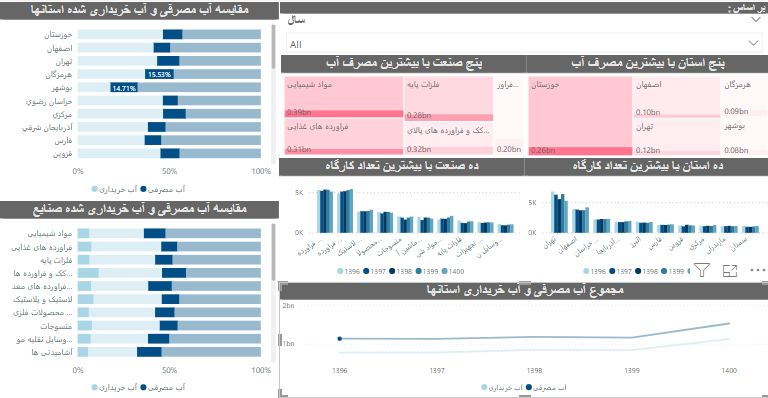

What the dashboard file says about the page in this screenshot:
{"tool":"powerbi","page":{"name":"مصرف آب کارگاه صنعتی ","canvas":[1280,720],"ordinal":1},"visuals":[{"type":"lineChart","title":"مجموع آب مصرفی و آب خریداری استانها","fields":{"Category":["آب استان.سال"],"Y":["Sum(آب استان.مقادیر)"],"Series":["آب استان.نوع آب"]},"box":[463,526.8,817,192.9],"z":0},{"type":"hundredPercentStackedBarChart","title":"مقایسه آب مصرفی و آب خریداری شده صنایع","fields":{"Category":["آب صنایع.صنایع"],"Series":["آب صنایع.نوع آب"],"Y":["Sum(آب صنایع.مقادیر)"]},"box":[0,392.6,463,328],"z":1000},{"type":"hundredPercentStackedBarChart","title":"مقایسه آب مصرفی و آب خریداری شده استانها","fields":{"Category":["آب استان.استان"],"Y":["Sum(آب استان.مقادیر)"],"Series":["آب استان.نوع آب"]},"box":[0,62,463,329],"z":2000},{"type":"treemap","title":"پنج استان با بیشترین مصرف آب","fields":{"Group":["آب استان.استان"],"Values":["Sum(آب استان.مقادیر)"]},"box":[871.6,149.4,408.4,171],"z":3000},{"type":"treemap","title":"پنج صنعت با بیشترین مصرف آب","fields":{"Values":["Sum(آب صنایع.مقادیر)"],"Group":["آب صنایع.صنایع"]},"box":[466,149.4,408.4,170],"z":4000},{"type":"clusteredColumnChart","title":"ده استان با بیشترین تعداد کارگاه","fields":{"Category":["تعداد کارگاه استان.استان"],"Y":["Sum(تعداد کارگاه استان.مقادیر)"],"Series":["تعداد کارگاه استان.سال"]},"box":[872.3,320,407.7,205],"z":5000},{"type":"clusteredColumnChart","title":"ده صنعت با بیشترین تعداد کارگاه","fields":{"Category":["تعداد کارگاه صنایع.صنایع"],"Y":["Sum(تعداد کارگاه صنایع.مقادیر)"],"Series":["تعداد کارگاه صنایع.سال"]},"box":[463,320,408,205],"z":6000},{"type":"slicer","title":": بر اساس","fields":{"Values":["آب استان.سال"]},"box":[465,62,811,88],"z":7000}]}

Visuals, with their boxes on the page's 1280x720 design canvas (x1, y1, x2, y2). These are canvas units, not pixel positions in the 768x398 screenshot, which may show the page scaled, cropped or inside an application window:
"مجموع آب مصرفی و آب خریداری استانها" lineChart: x1=463, y1=527, x2=1280, y2=720
"مقایسه آب مصرفی و آب خریداری شده صنایع" hundredPercentStackedBarChart: x1=0, y1=393, x2=463, y2=721
"مقایسه آب مصرفی و آب خریداری شده استانها" hundredPercentStackedBarChart: x1=0, y1=62, x2=463, y2=391
"پنج استان با بیشترین مصرف آب" treemap: x1=872, y1=149, x2=1280, y2=320
"پنج صنعت با بیشترین مصرف آب" treemap: x1=466, y1=149, x2=874, y2=319
"ده استان با بیشترین تعداد کارگاه" clusteredColumnChart: x1=872, y1=320, x2=1280, y2=525
"ده صنعت با بیشترین تعداد کارگاه" clusteredColumnChart: x1=463, y1=320, x2=871, y2=525
": بر اساس" slicer: x1=465, y1=62, x2=1276, y2=150
